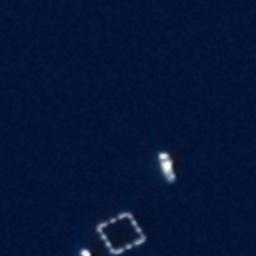square_solid: (90, 208, 150, 256)
